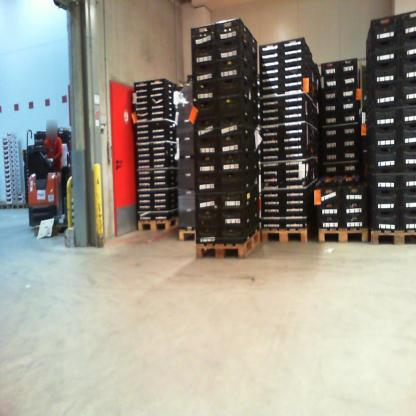pallets: (194, 230, 260, 258), (316, 228, 368, 243), (369, 229, 415, 245), (259, 228, 308, 243), (136, 216, 177, 232), (0, 199, 27, 210)
